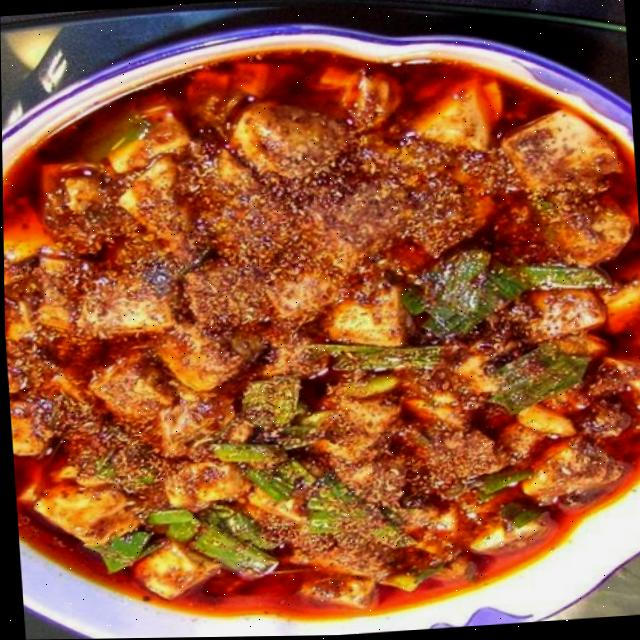豆腐料理: (0, 15, 640, 640)
